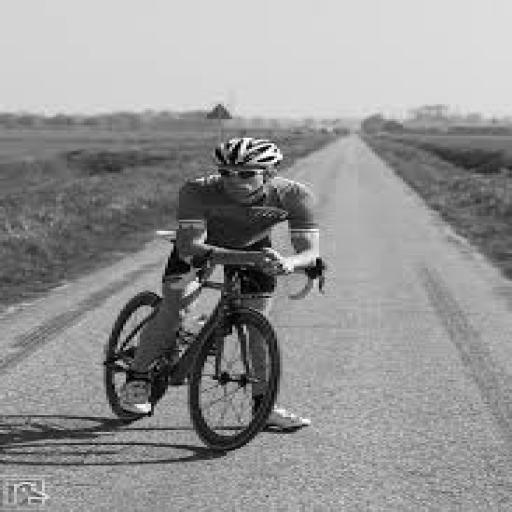cycling: (112, 134, 330, 436)
